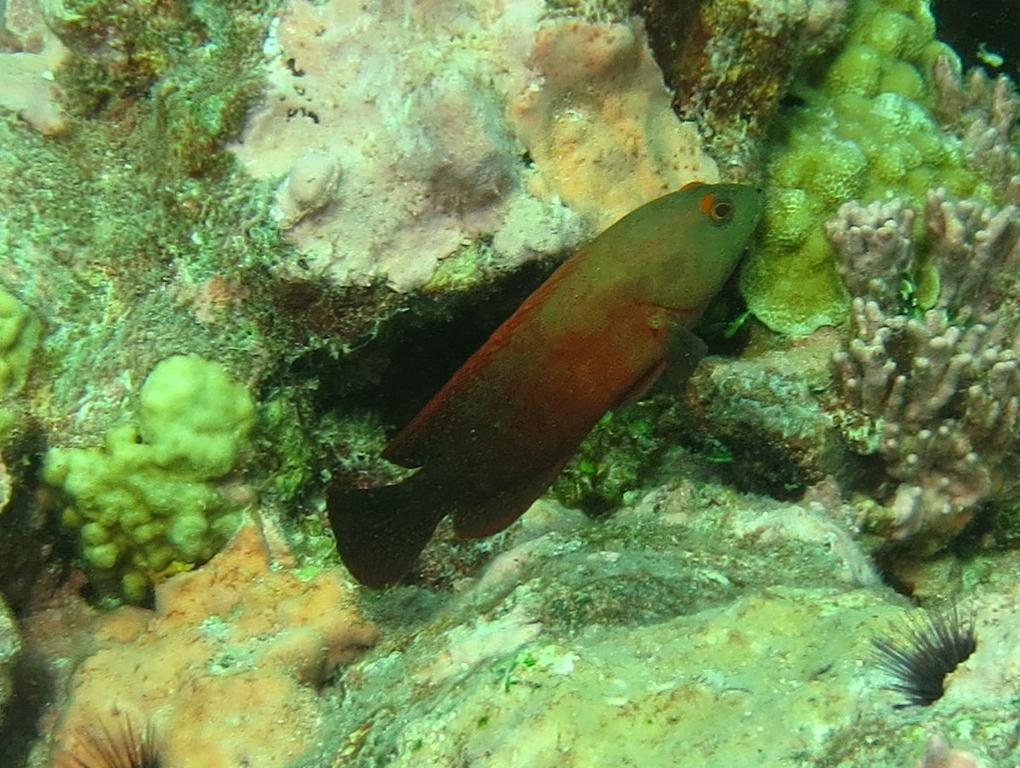Fish: (330, 178, 770, 596)
